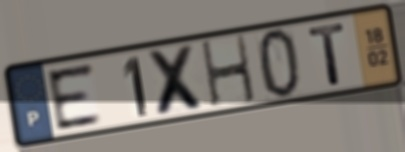0: (256, 26, 303, 100)
1: (122, 54, 151, 118)
E: (43, 60, 105, 133)
H: (198, 33, 259, 111)
T: (306, 20, 348, 87)
X: (144, 42, 210, 119)
